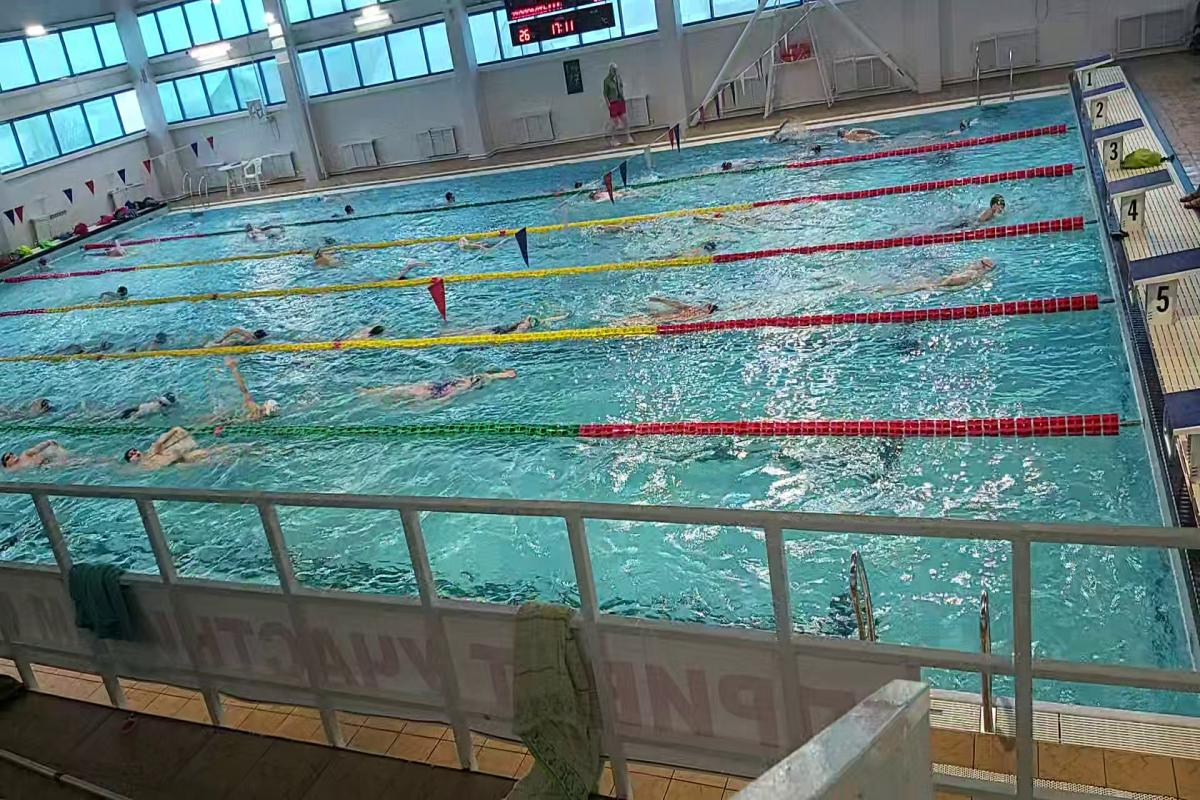swimmer: (352, 362, 529, 404), (203, 346, 288, 425), (127, 434, 242, 476), (883, 257, 1003, 294), (609, 288, 739, 320), (3, 434, 95, 473), (461, 306, 577, 333), (109, 383, 180, 427), (964, 192, 1014, 231), (210, 322, 277, 351), (330, 310, 389, 340), (13, 392, 63, 423), (583, 188, 647, 210), (237, 221, 287, 246), (130, 330, 172, 355), (94, 280, 132, 303), (308, 250, 347, 271), (688, 232, 719, 252)
